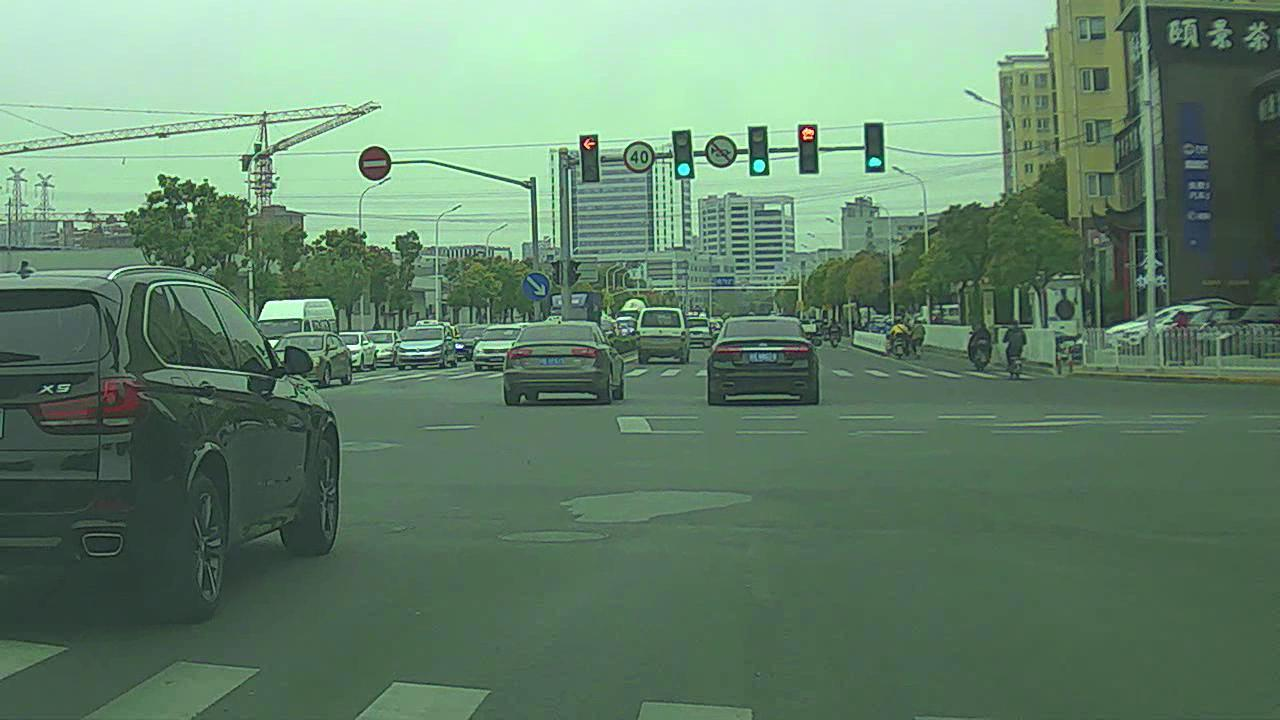traffic_light: (800, 122, 824, 177), (748, 122, 771, 175), (867, 119, 888, 173), (674, 132, 697, 178), (580, 132, 599, 182)
